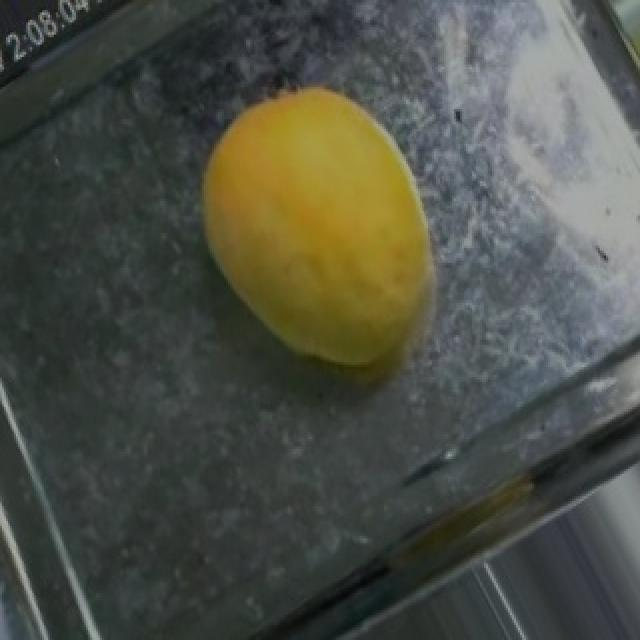fruit: (146, 45, 510, 414)
